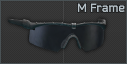Oakley SI M Frame safety glasses: (0, 0, 127, 64)
